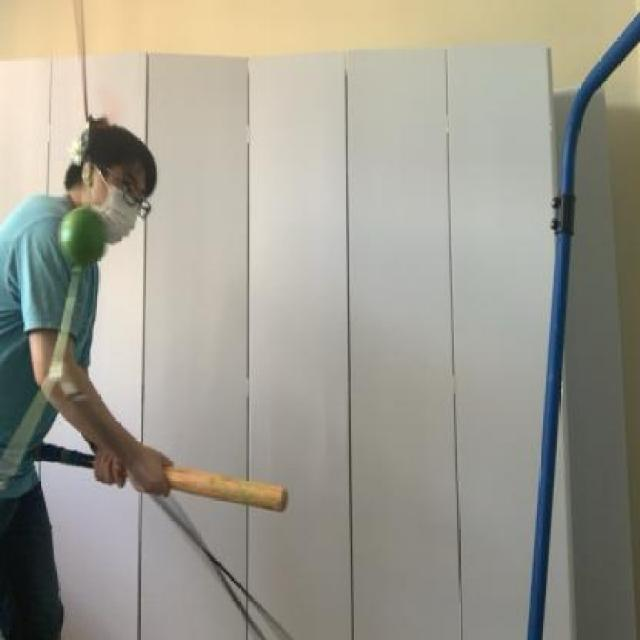baseball: (55, 196, 110, 270)
